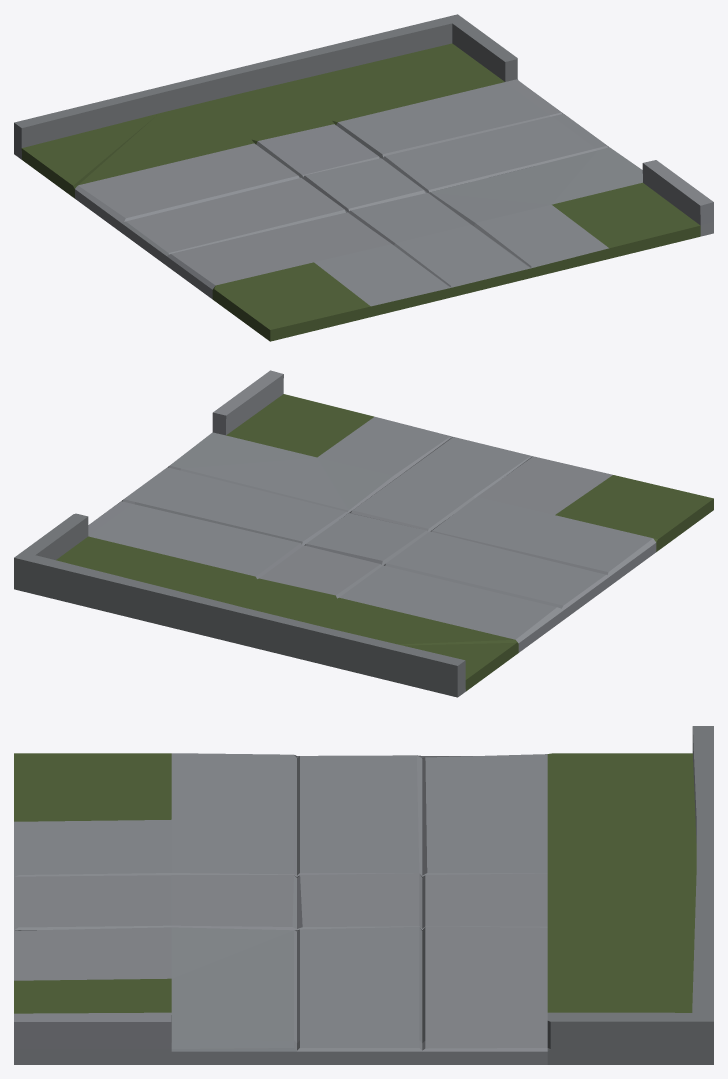
File: Road_031-col.glb
3 renders of one model, top to bottom at view 1: azimuth 30°, elevation 25°; view 2: azimuth 150°, elevation 25°; view 3: azimuth 270°, elevation 25°, orthographic. The views are drawn at different scales.
Parts seen in each view (by area): view 1: Sidewalk_08_C-col; view 2: Sidewalk_08_C-col; view 3: Sidewalk_08_C-col.
Part boxes in pixels (left/top/right/bottom): Sidewalk_08_C-col: left=14, top=14, right=713, bottom=341; Sidewalk_08_C-col: left=14, top=370, right=713, bottom=697; Sidewalk_08_C-col: left=14, top=726, right=713, bottom=1064.
Size of the model in its own units: 2 by 0.1363 by 2.
Materials: 1 (1 with a texture image).
